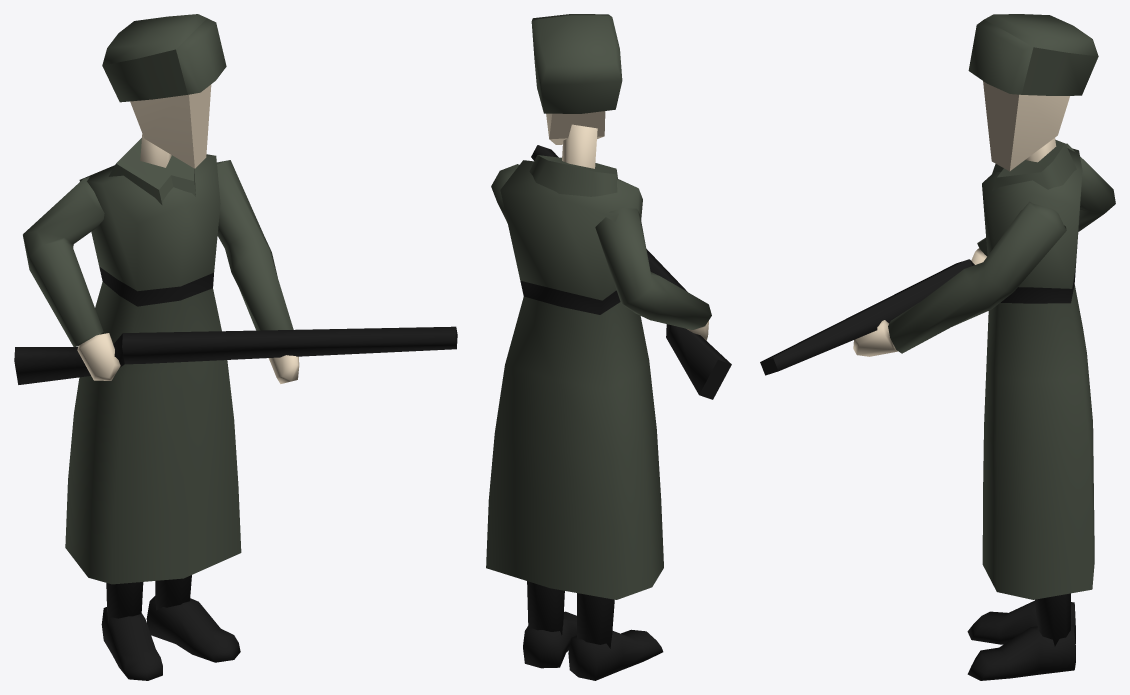
The model's file is mesh_SovietSoldier_a.fbx.
3 renders of one model, left to right at view 1: azimuth 30°, elevation 25°; view 2: azimuth 150°, elevation 25°; view 3: azimuth 270°, elevation 25°, orthographic. The views are drawn at different scales.
Visible parts, largest first — view 1: mesh_SovietSoldierA; view 2: mesh_SovietSoldierA; view 3: mesh_SovietSoldierA.
Part boxes in pixels (x1,y1,x2,y2): mesh_SovietSoldierA: [14, 14, 457, 680]; mesh_SovietSoldierA: [486, 14, 731, 680]; mesh_SovietSoldierA: [760, 14, 1115, 680].
Size of the model in its own units: 55.05 by 102 by 51.77.
